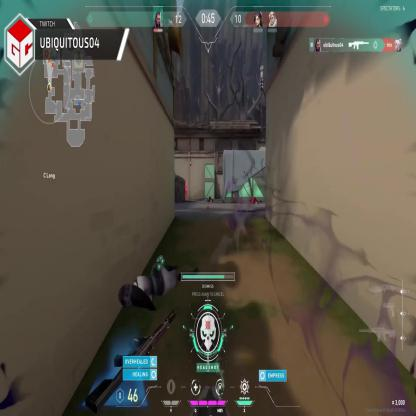enemy: (183, 180, 188, 202)
enemy_head: (184, 180, 186, 184)
